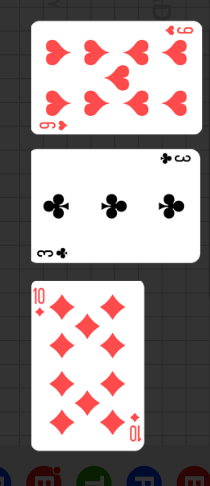10D: (32, 286, 46, 319), (128, 411, 142, 443)
9H: (163, 24, 195, 37)
